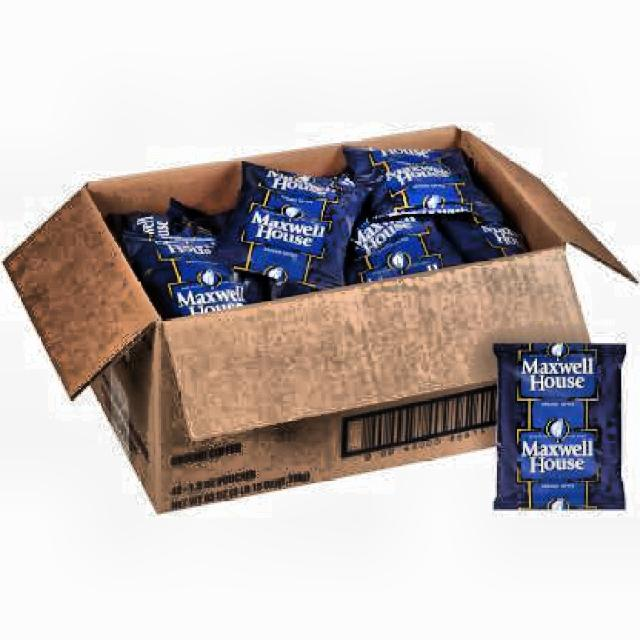Cardbox: (1, 96, 640, 514)
